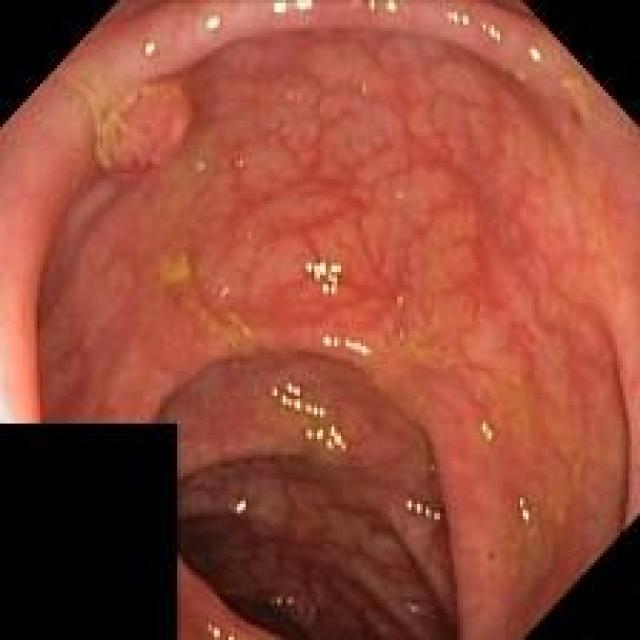Polyps: (96, 76, 192, 172)
